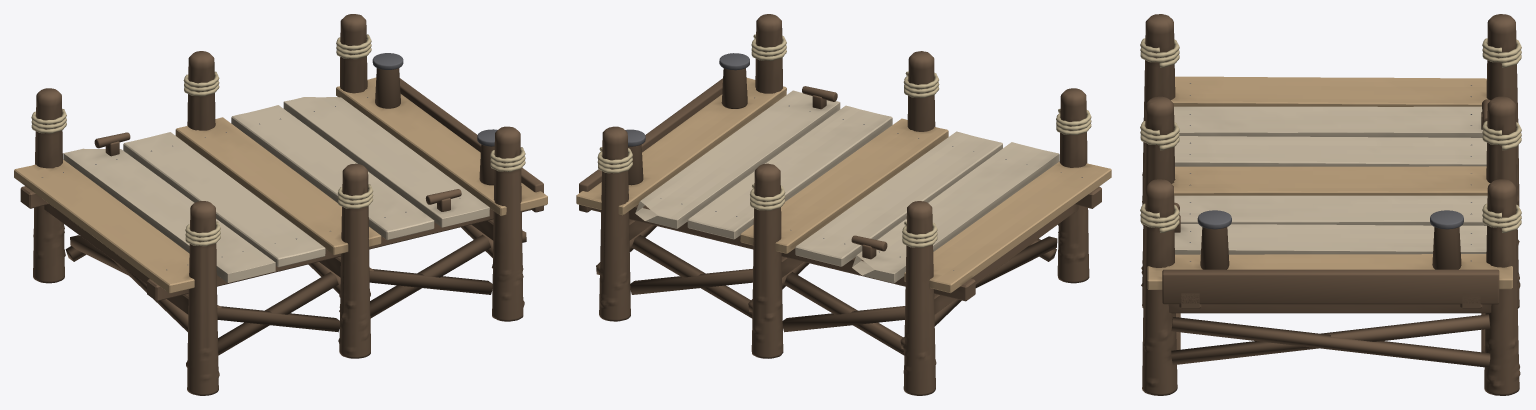
Rendered from dock_end.ba75596a.glb.
The picture shows the model from 3 angles, left to right: view 1: azimuth 30°, elevation 25°; view 2: azimuth 150°, elevation 25°; view 3: azimuth 270°, elevation 25°; orthographic projection. The views are drawn at different scales.
Parts seen in each view (by area): view 1: dock_end; view 2: dock_end; view 3: dock_end.
Part boxes in pixels (x1,y1,x2,y2): dock_end: (14,14,547,395); dock_end: (576,14,1111,395); dock_end: (1140,14,1521,395).
Size of the model in its own units: 4 by 1.86 by 3.13.
